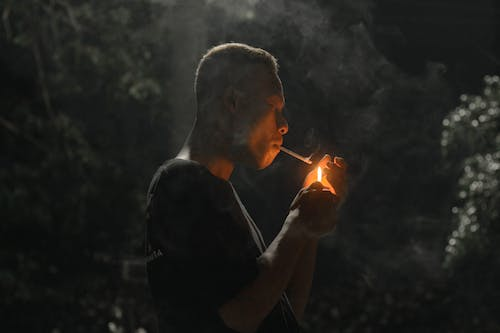cigarette: (277, 145, 314, 166)
